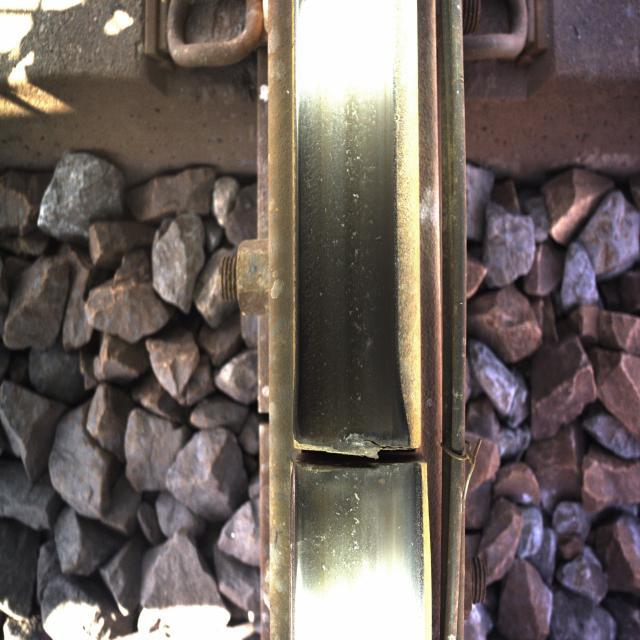spalling: (250, 399, 446, 509)
